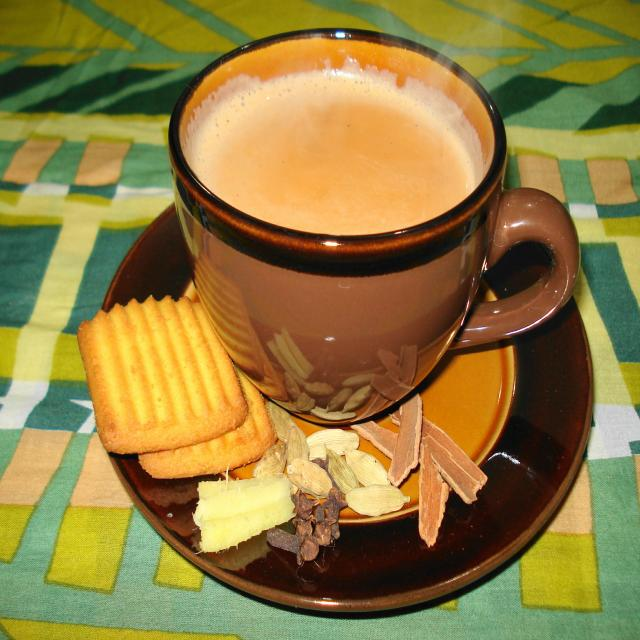Chai: (186, 72, 482, 234)
